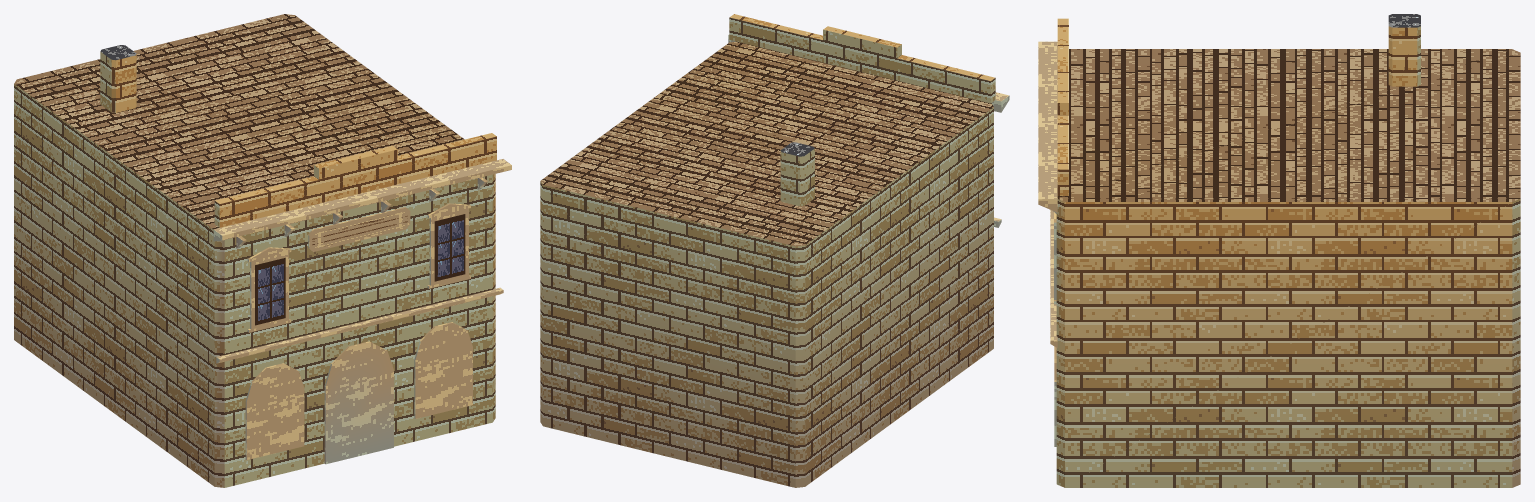
Rendered from wtown.bank.glb.
The picture shows the model from 3 angles, left to right: view 1: azimuth 30°, elevation 25°; view 2: azimuth 150°, elevation 25°; view 3: azimuth 270°, elevation 25°; orthographic projection. The views are drawn at different scales.
Parts seen in each view (by area): view 1: kit_body, kit_trim, kit_windows, kit_card_panes, kit_chimney; view 2: kit_body, kit_trim, kit_chimney; view 3: kit_body, kit_trim, kit_chimney, kit_windows.
Part boxes in pixels (box(x1,y1,x2,y2)): kit_body: box(14, 14, 495, 487); kit_trim: box(213, 133, 511, 464); kit_windows: box(245, 203, 472, 459); kit_card_panes: box(255, 210, 465, 325); kit_chimney: box(100, 45, 136, 112); kit_body: box(540, 41, 993, 487); kit_trim: box(728, 14, 1009, 227); kit_chimney: box(780, 142, 814, 206); kit_body: box(1056, 49, 1520, 487); kit_trim: box(1038, 18, 1068, 347); kit_chimney: box(1388, 14, 1420, 86); kit_windows: box(1054, 212, 1056, 446).
Size of the model in its own units: 8.04 by 8.2 by 10.4.
Materials: 7 (7 with a texture image).
